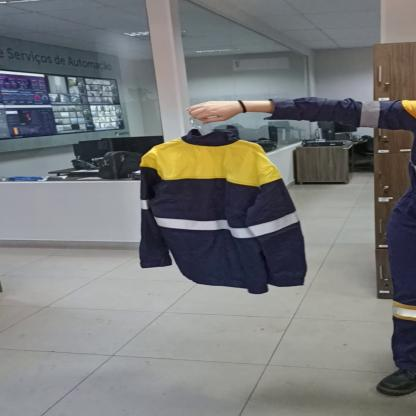C_eletrica: (135, 132, 311, 296)
